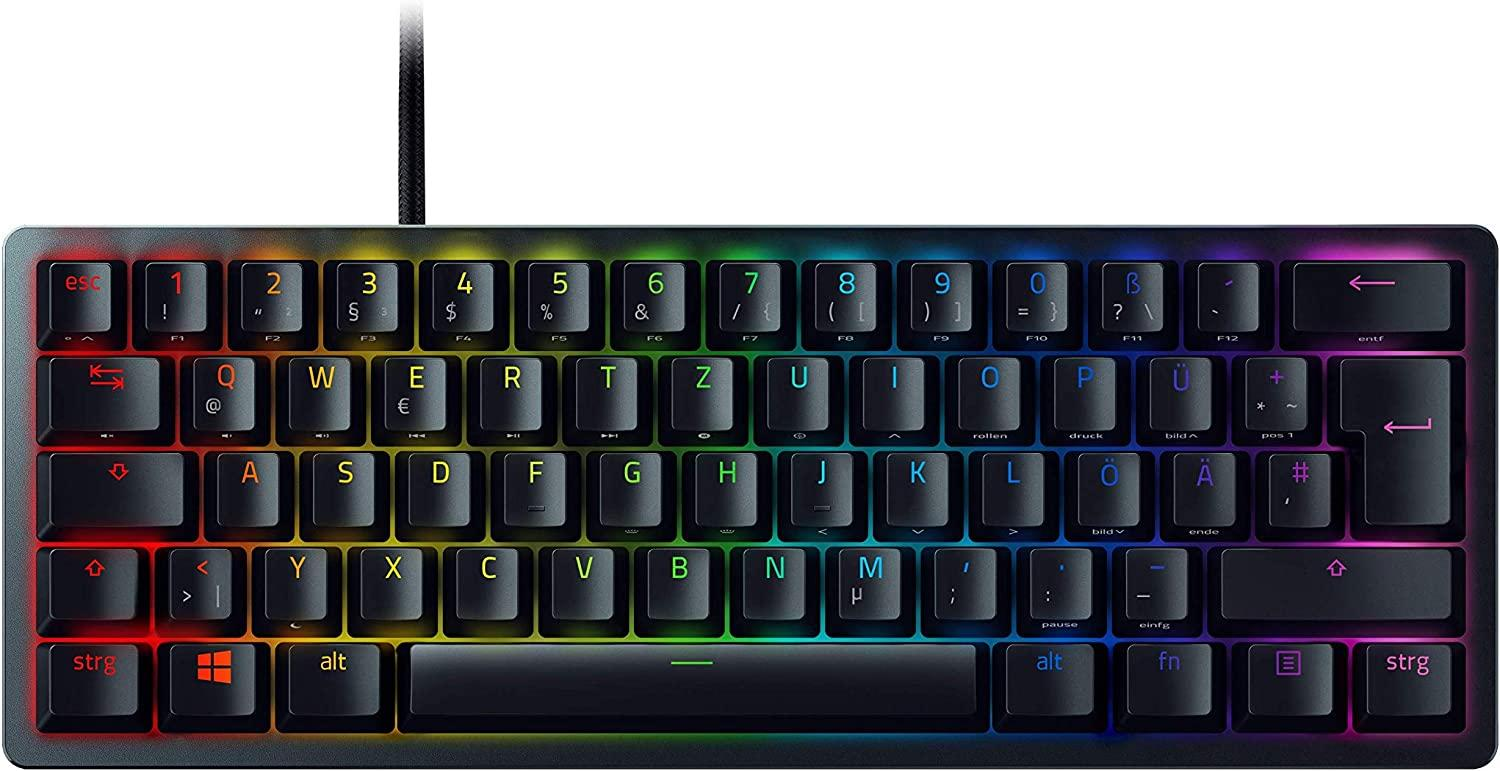0: (999, 256, 1071, 333)
1: (137, 255, 209, 331)
2: (234, 255, 305, 332)
3: (328, 255, 402, 333)
4: (424, 255, 497, 334)
5: (521, 255, 593, 334)
6: (615, 255, 691, 334)
7: (712, 256, 782, 335)
8: (806, 256, 881, 337)
9: (902, 256, 977, 336)
a: (210, 445, 280, 525)
accent: (1192, 255, 1260, 331)
ae: (1166, 445, 1237, 525)
alt-left: (279, 635, 383, 717)
altgr-right: (997, 639, 1097, 717)
b: (640, 540, 712, 619)
c: (448, 540, 521, 619)
comma: (926, 540, 997, 619)
d: (400, 445, 472, 526)
del: (1284, 256, 1455, 331)
e: (377, 349, 448, 431)
enter: (1327, 345, 1456, 529)
f: (496, 445, 567, 525)
g: (593, 445, 662, 525)
h: (688, 446, 758, 525)
hash: (1262, 445, 1330, 526)
i: (856, 350, 926, 429)
j: (784, 445, 853, 526)
k: (879, 445, 951, 527)
keyboard: (3, 218, 1496, 766)
l: (976, 446, 1045, 526)
less: (162, 540, 234, 618)
m: (830, 541, 903, 620)
minus: (1118, 540, 1188, 620)
n: (735, 541, 808, 620)
o: (951, 351, 1023, 430)
oe: (1070, 446, 1141, 526)
p: (1048, 350, 1118, 430)
plus: (1238, 349, 1308, 430)
point: (1023, 540, 1093, 619)
q: (183, 349, 259, 432)
r: (473, 349, 546, 430)
s: (305, 445, 377, 526)
shift-left: (41, 541, 139, 619)
shift-lock: (44, 446, 185, 525)
shift-right: (1210, 540, 1457, 621)
space: (395, 635, 987, 723)
ss: (1093, 256, 1166, 334)
strg-left: (40, 636, 142, 716)
strg-right: (1358, 636, 1459, 717)
t: (569, 349, 638, 430)
tab: (43, 349, 162, 429)
u: (760, 350, 831, 431)
ue: (1142, 349, 1214, 431)
v: (545, 540, 617, 619)
w: (281, 348, 353, 431)
x: (354, 540, 425, 620)
y: (258, 540, 329, 620)
z: (664, 350, 735, 431)
